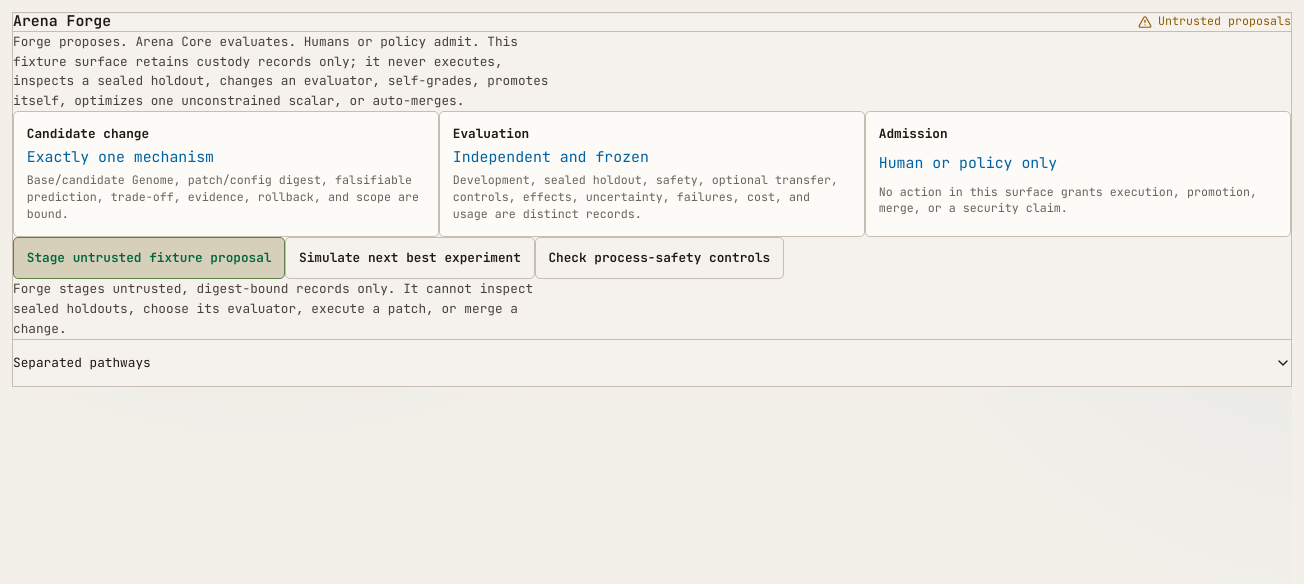
Test: ForgeSurface › stages an untrusted proposal without exposing execution or merge authority
The image size is (1304, 584).
Expected: the text "cannot inspect sealed holdouts" is shown, 13,280 -> 533,337
Click the button "Stage untrusted fixture proposal" at (149, 258), box 13,237 -> 285,279
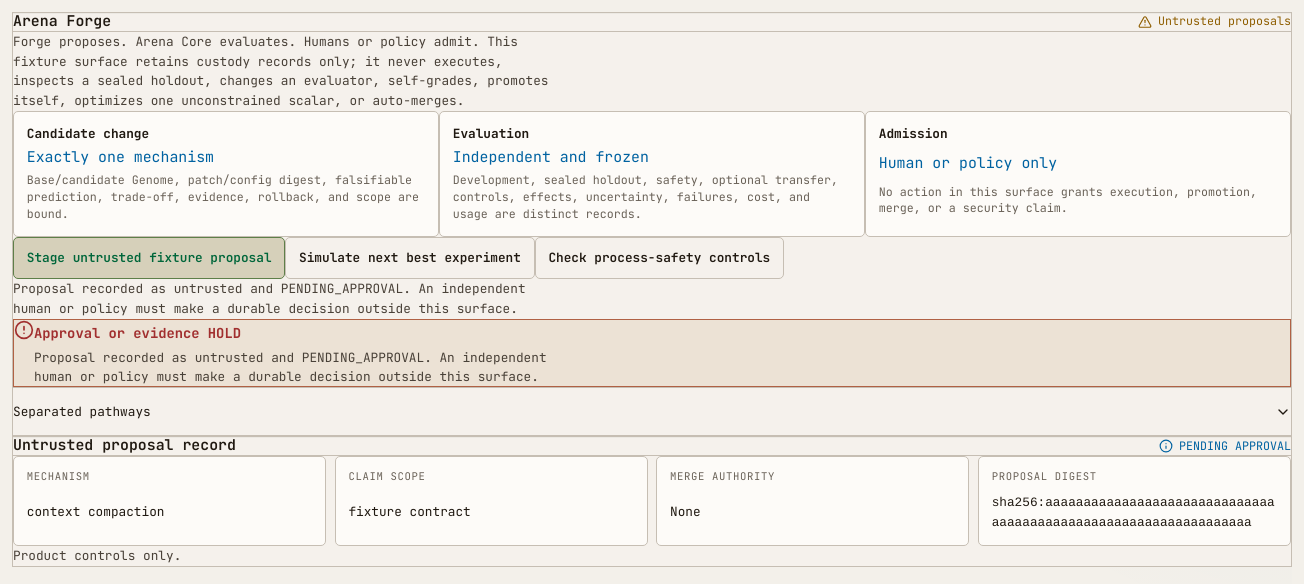
Now the heading "Untrusted proposal record" is shown, box 13,437 -> 236,455
Now the text "PENDING APPROVAL" is shown, box 1159,438 -> 1291,454
Now the text "None" is shown, box 670,503 -> 701,520
